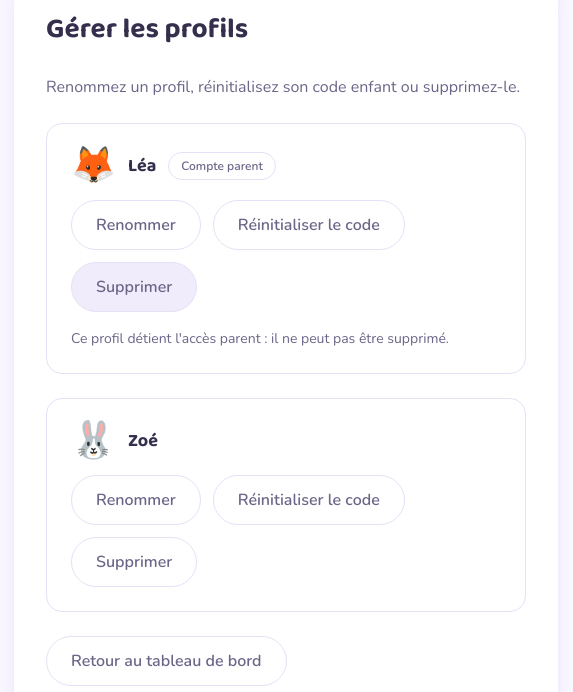
Test: ProfileManager — supprimer (purge) › confirmation → appelle deleteProfileAction + feedback + refresh
Click the button "Supprimer" below "Zoé" at (134, 562), box top-left (71, 537), bottom-right (197, 587)
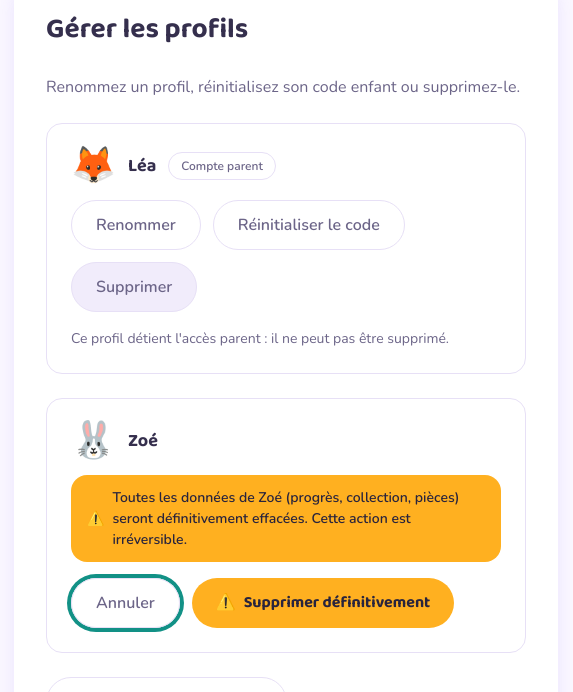
Click the button "⚠️ Supprimer définitivement" at (323, 603), box top-left (192, 578), bottom-right (454, 628)
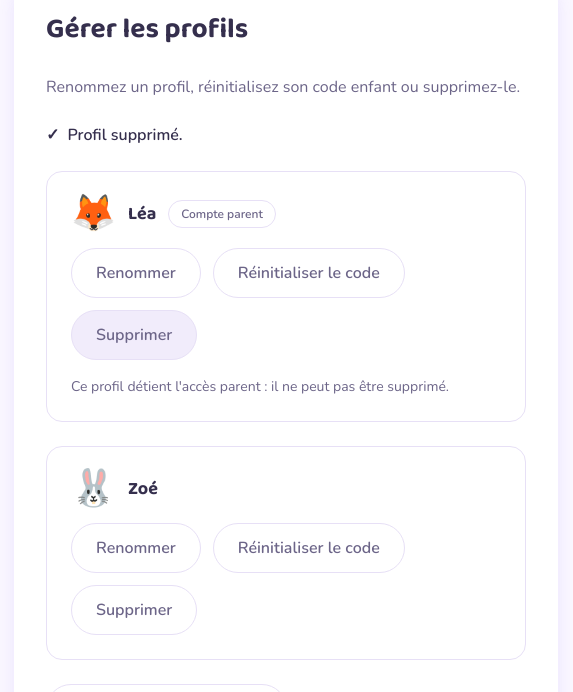
Now the text "Profil supprimé." is shown, box top-left (67, 124), bottom-right (183, 146)
